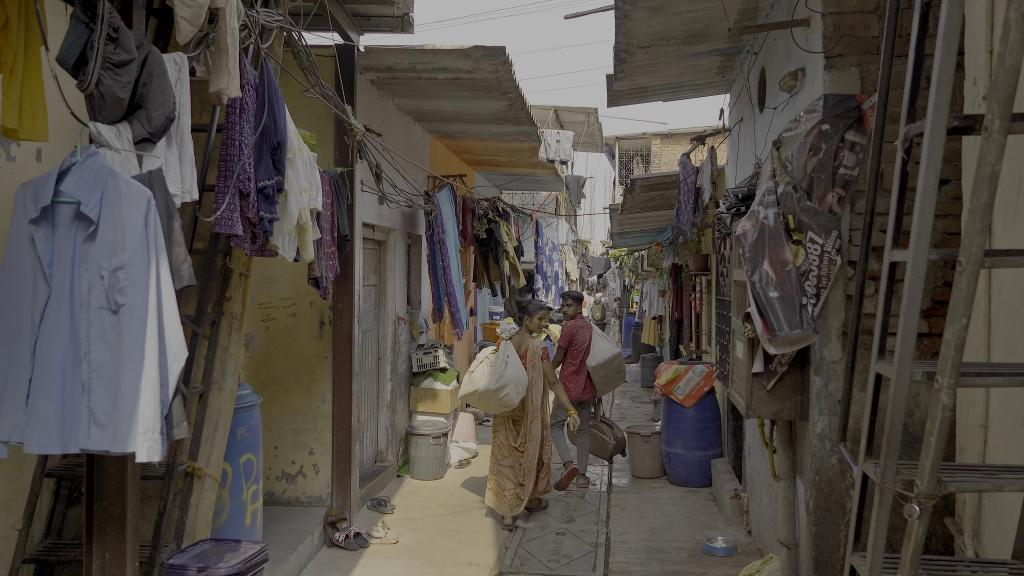dustbin: (407, 414, 451, 479)
